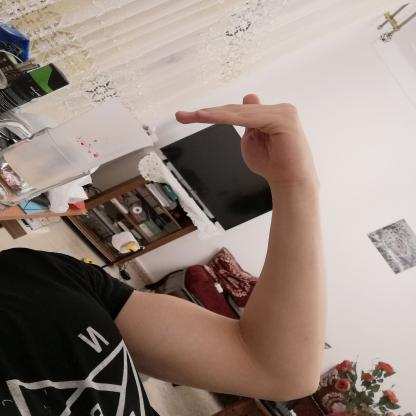KHAA: (162, 84, 329, 188)
